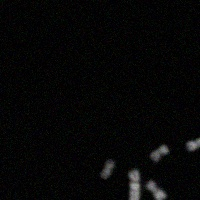chromosome: (149, 143, 168, 162), (148, 181, 166, 200), (128, 169, 139, 200), (100, 159, 113, 179), (188, 131, 200, 150)
